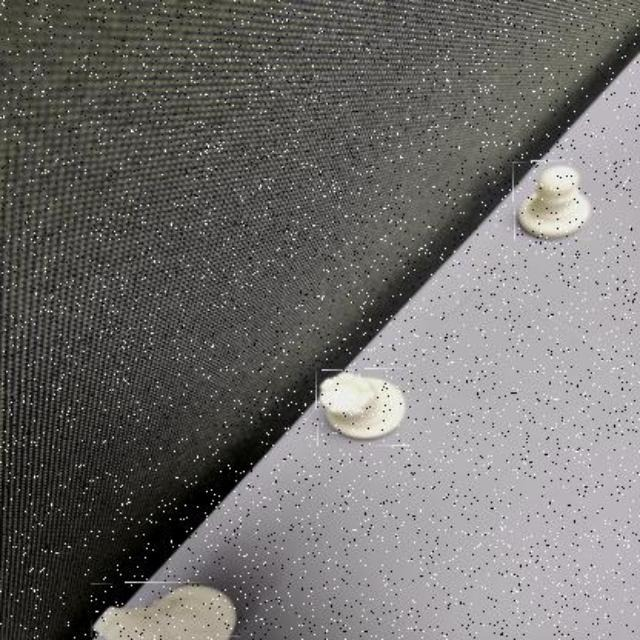white-knight: (91, 583, 241, 639)
white-pawn: (513, 161, 593, 242)
white-rook: (316, 369, 414, 447)
